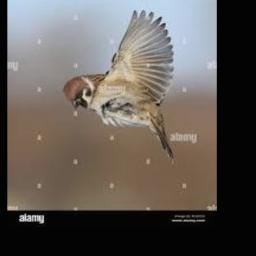Sparrow: (62, 10, 173, 165)
